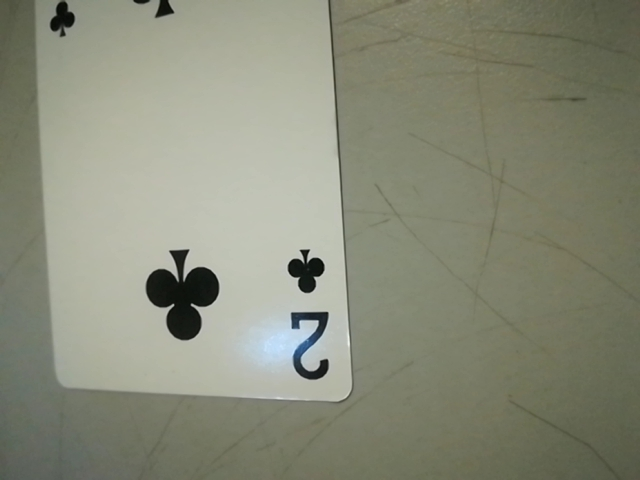mh 2: (277, 237, 347, 394)
